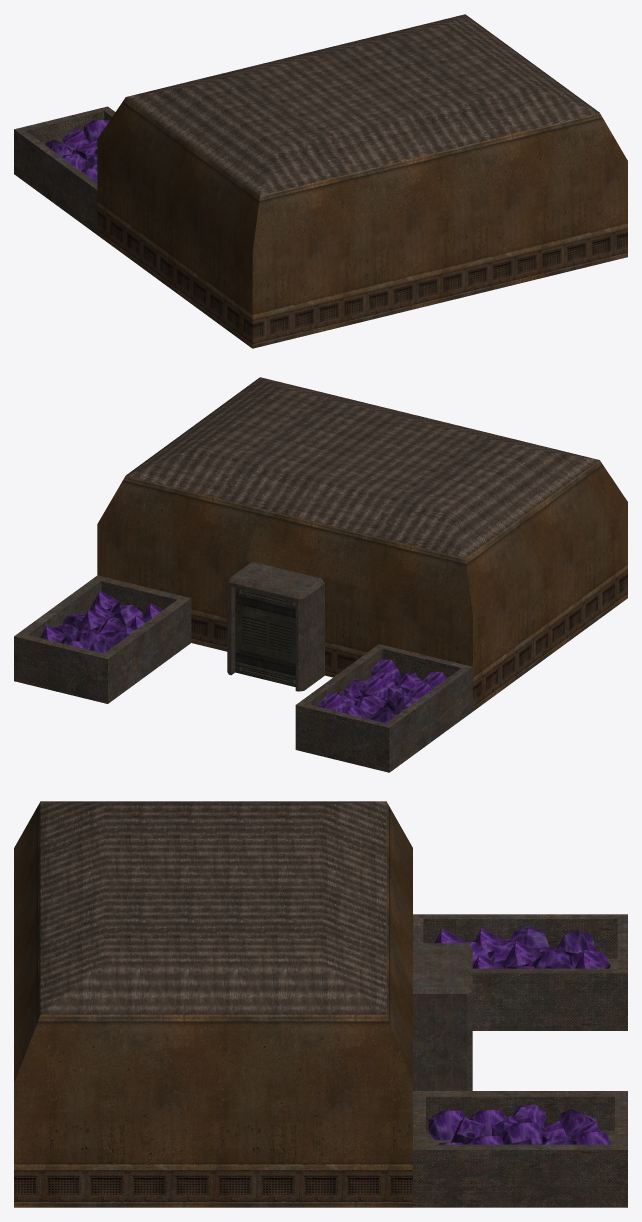
File: MiningBase.fbx
The picture shows the model from 3 angles, top to bottom: view 1: azimuth 30°, elevation 25°; view 2: azimuth 150°, elevation 25°; view 3: azimuth 270°, elevation 25°; orthographic projection. The views are drawn at different scales.
Parts seen in each view (by area): view 1: pCube1, pSphere29; view 2: pCube1, pSphere29; view 3: pCube1, pSphere29.
Part boxes in pixels (x1,y1,x2,y2): pCube1: (14,14,627,348); pSphere29: (45,120,109,182); pCube1: (14,377,627,772); pSphere29: (40,591,446,722); pCube1: (14,801,627,1207); pSphere29: (428,926,610,1144).
Size of the model in its own units: 4.42 by 1.8 by 4.87.
Materials: 7 (7 with a texture image).
